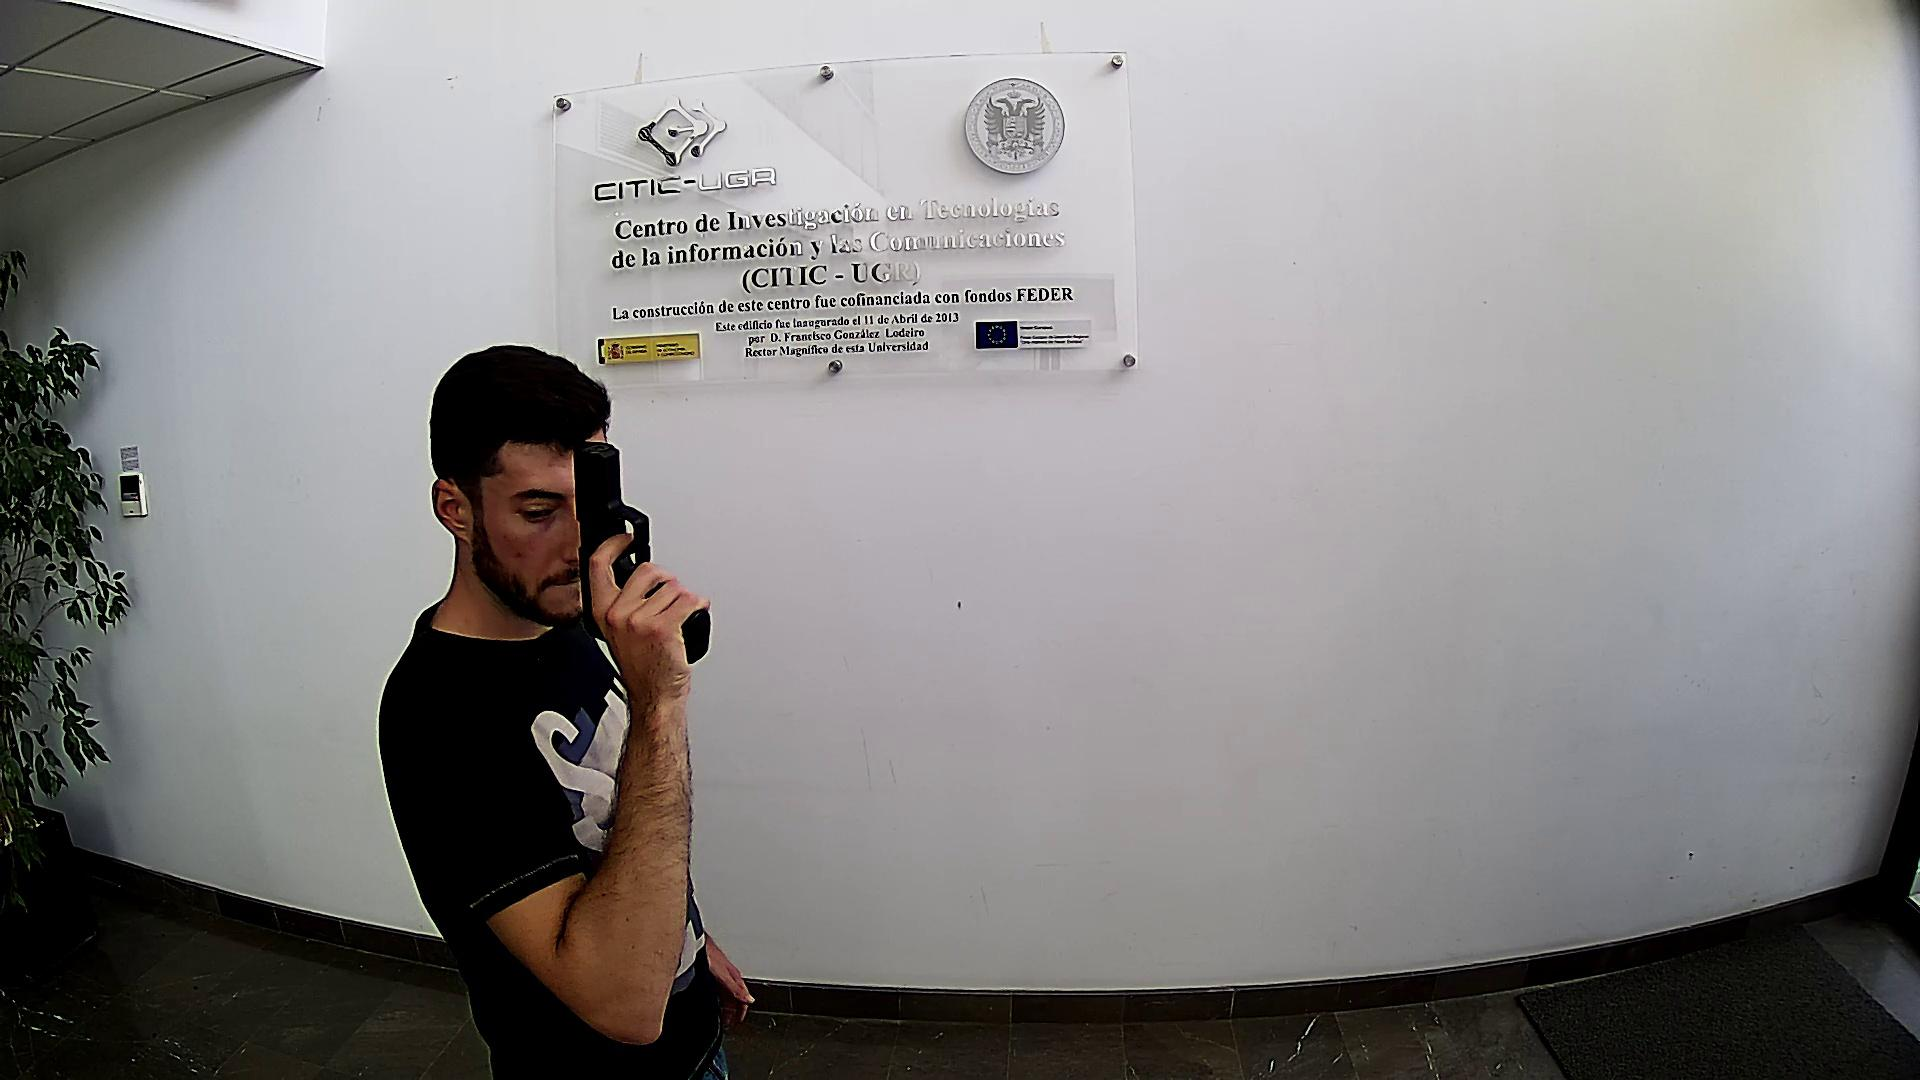criminal: (378, 344, 754, 1080)
weapon: (572, 442, 713, 663)
